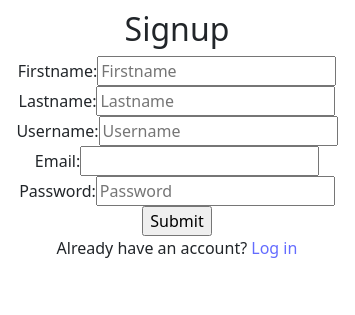
it: Signup Page › displays an error message when username is too short
This screenshot has width=355, height=315.
Type "Test" into the field labelled "Firstname:" at (217,71), box [97,56,336,86]
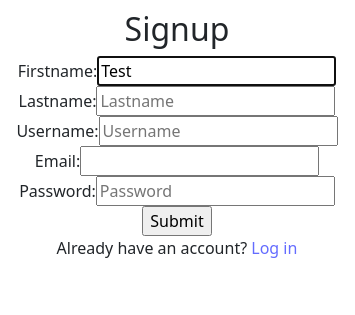
Type "User" into the field labelled "Lastname:" at (216,101), box [96,86,336,116]
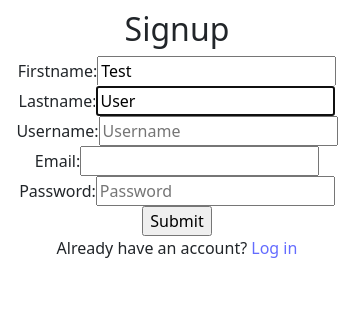
Type "test" into the field labelled "Username:" at (218,131), box [99,116,338,146]
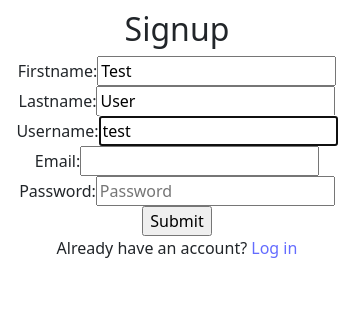
Click the button at (177,221), box [142,206,212,236]
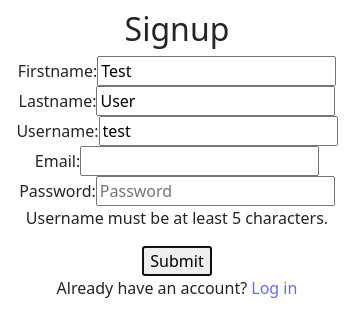
Check: the text "Username must be at least 5 characters." is shown, box [16,206,338,230]
